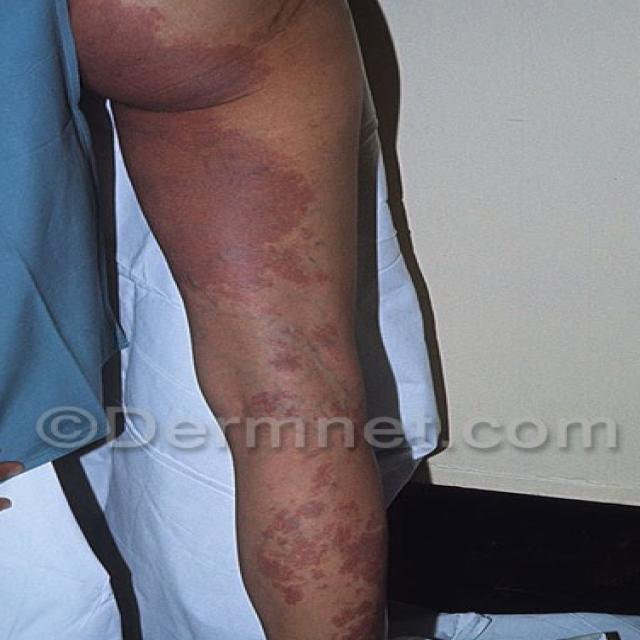Vascular Tumors: (61, 0, 315, 325), (257, 469, 458, 640)
